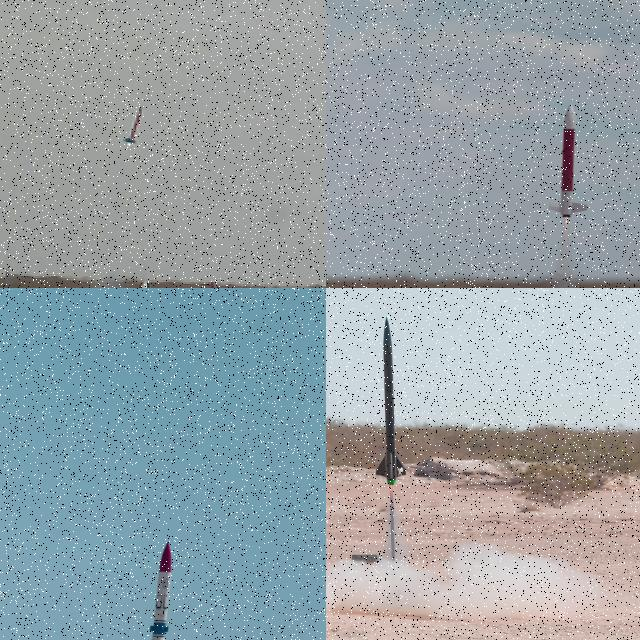Rocket: (129, 541, 188, 640), (374, 315, 406, 485), (547, 103, 589, 218), (122, 106, 144, 146)
